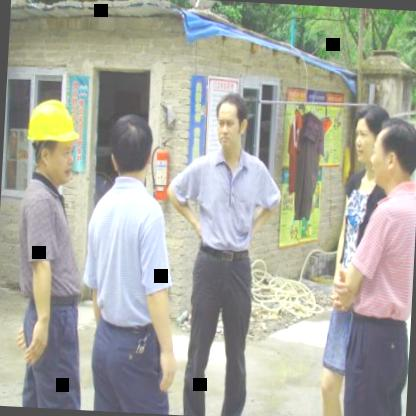head: (365, 114, 416, 195), (107, 112, 155, 184), (211, 90, 248, 156), (351, 101, 386, 168)
helmet: (20, 94, 84, 187)
